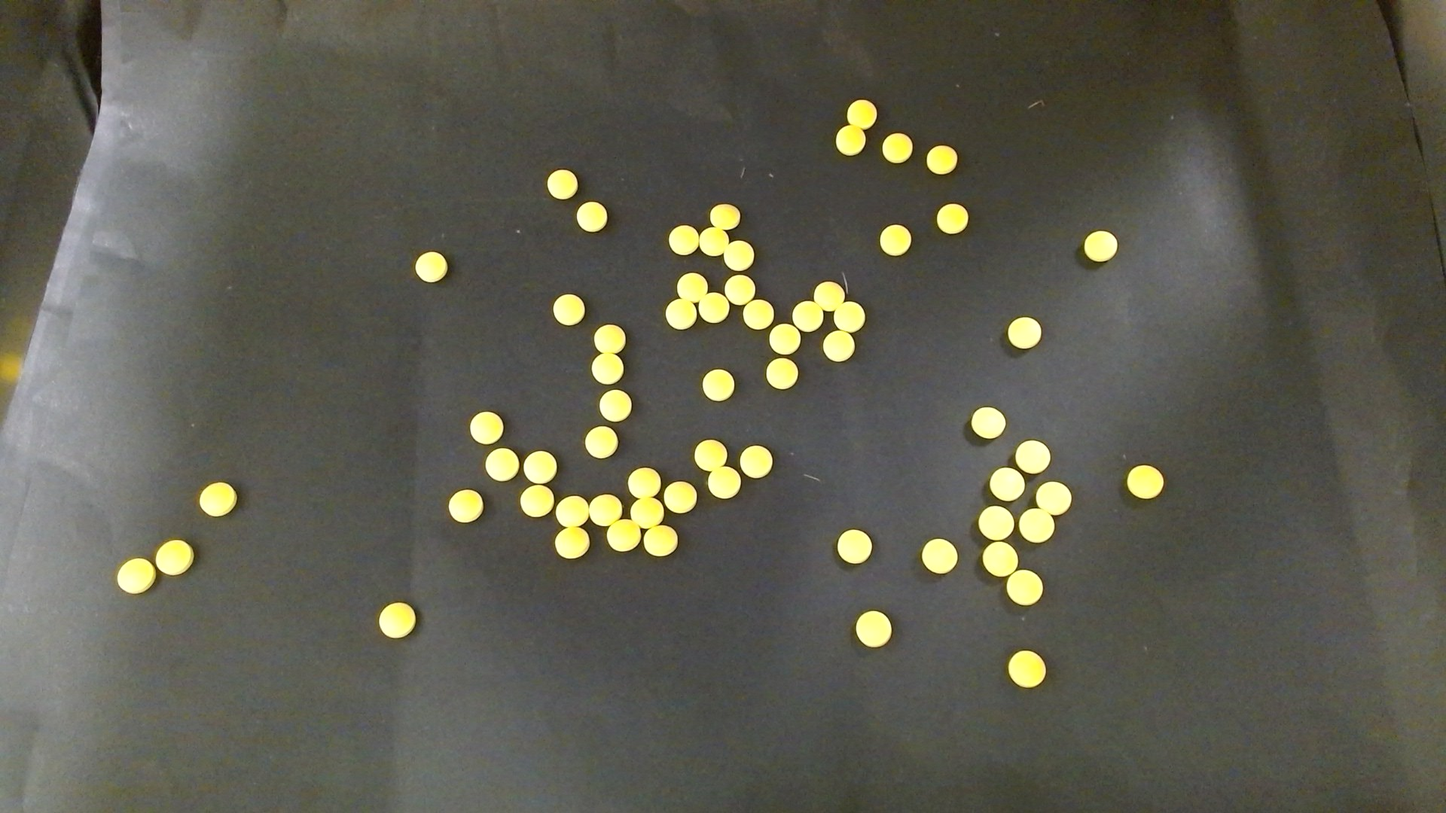Circle: (1007, 649, 1047, 688), (154, 539, 194, 577), (1002, 315, 1042, 352), (1124, 464, 1165, 500), (853, 610, 892, 647), (117, 557, 156, 594), (377, 602, 416, 639), (837, 528, 873, 565), (920, 538, 957, 574), (1005, 570, 1042, 606), (197, 483, 236, 517), (981, 541, 1017, 577), (968, 406, 1005, 441), (978, 505, 1014, 540), (1014, 439, 1050, 474), (1081, 229, 1118, 263), (1019, 508, 1054, 543), (447, 489, 483, 523), (1035, 481, 1071, 515), (988, 467, 1023, 501), (554, 525, 589, 559), (739, 444, 773, 478), (551, 293, 586, 326), (520, 484, 554, 517), (413, 250, 448, 282), (643, 525, 678, 557), (585, 425, 618, 458), (556, 495, 589, 528), (469, 411, 503, 443), (630, 495, 664, 527), (701, 369, 734, 401), (822, 330, 855, 362), (523, 451, 556, 483), (485, 449, 518, 481), (591, 352, 624, 384), (936, 202, 968, 234), (576, 201, 608, 233), (599, 390, 631, 422), (664, 481, 696, 513), (694, 440, 727, 471), (627, 467, 660, 498), (707, 467, 740, 498), (588, 494, 621, 525), (879, 224, 911, 255), (765, 358, 797, 389), (593, 323, 625, 354), (607, 520, 639, 551), (833, 300, 865, 331), (926, 144, 957, 175), (664, 298, 695, 329), (834, 124, 866, 154), (676, 271, 708, 301), (882, 132, 912, 163), (547, 169, 578, 199), (846, 98, 877, 128), (667, 224, 698, 254), (698, 292, 728, 323), (725, 274, 755, 305), (792, 300, 822, 330), (770, 323, 800, 353), (723, 240, 753, 270), (743, 299, 773, 329), (814, 280, 844, 309), (698, 226, 727, 255), (710, 202, 740, 230)
